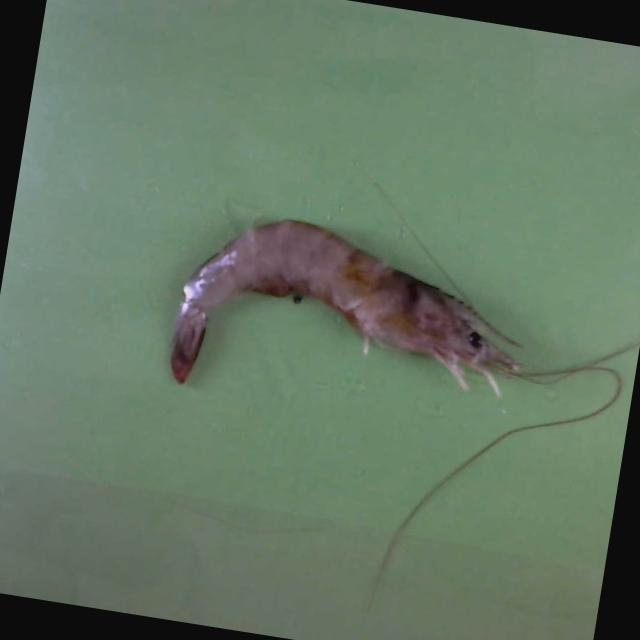shrimp: (170, 220, 514, 384)
